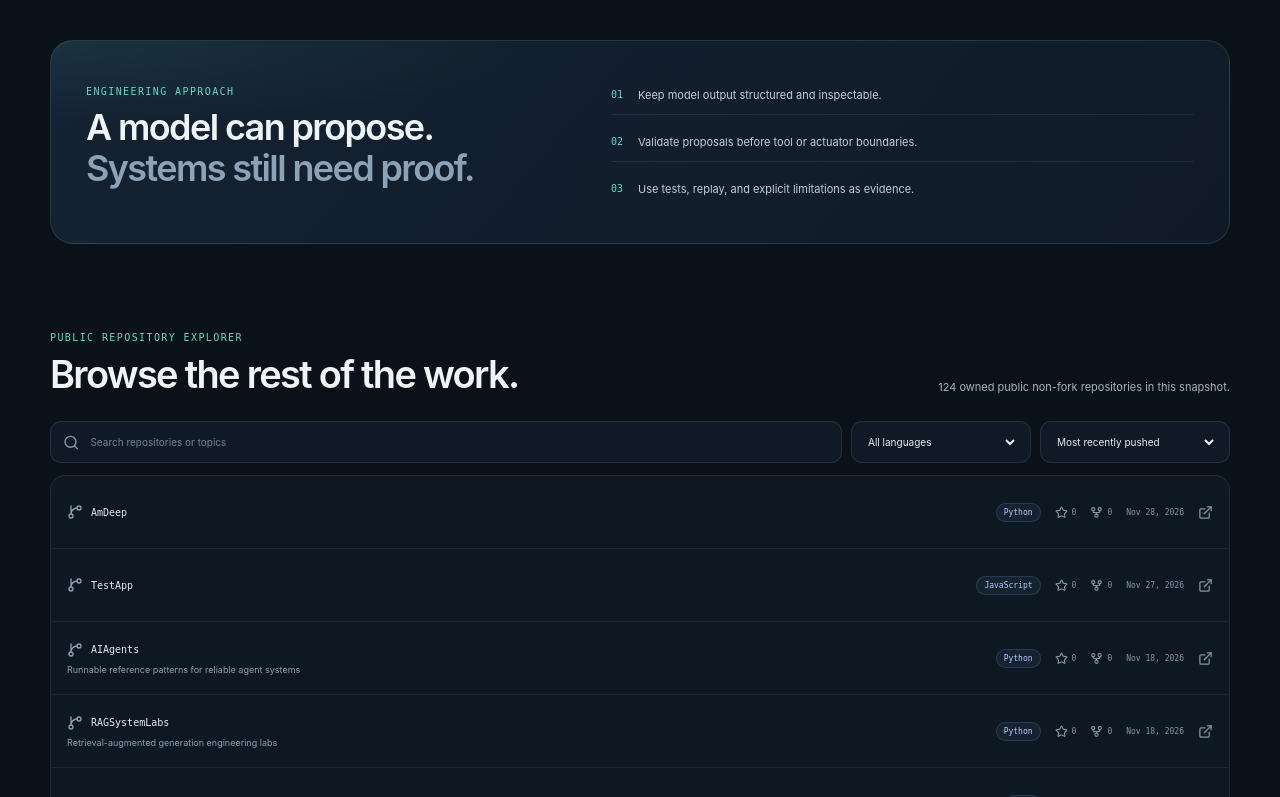
Test case: portfolio dashboard › searches the public repository explorer
(page scrolled)
In the search field named "search public repositories": [459, 442] box [88,435,829,449], type "AIAgents"
(page scrolled)
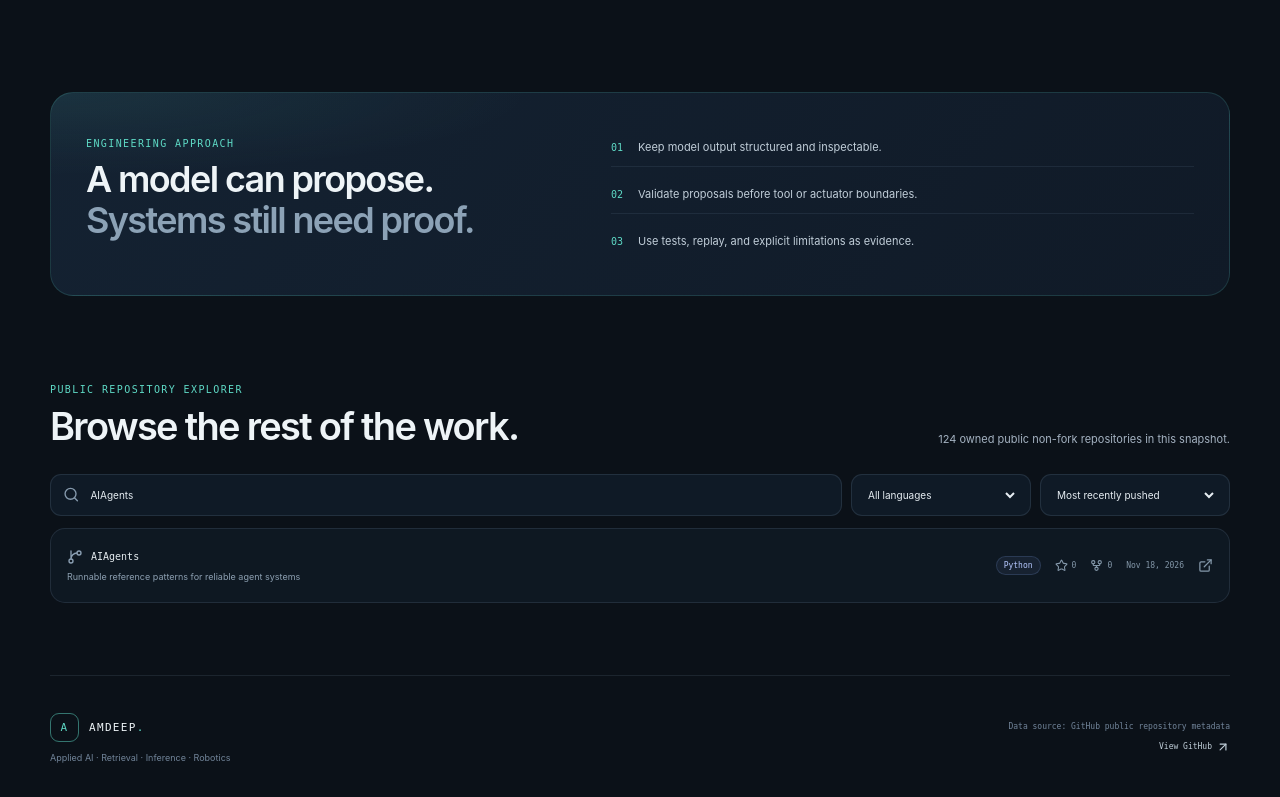
Expected: the link "AIAgents" is shown, [67,549,1213,582]
Expected: the link "RAGSystemLabs" is gone
